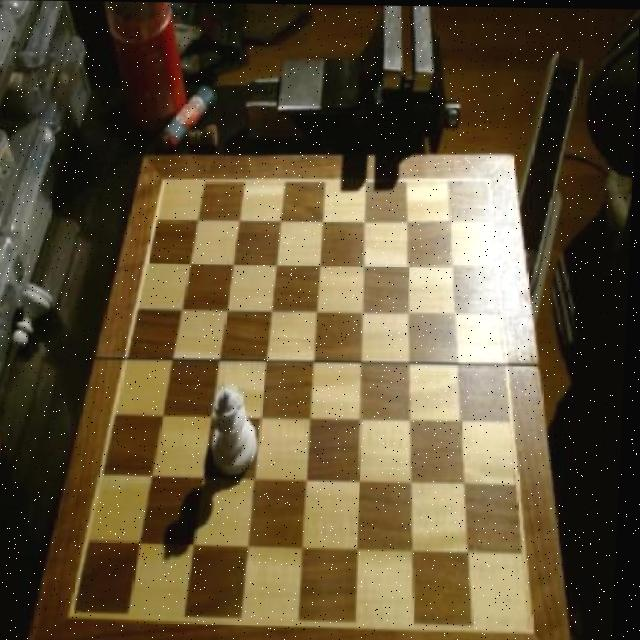white-pawn: (214, 384, 262, 473)
